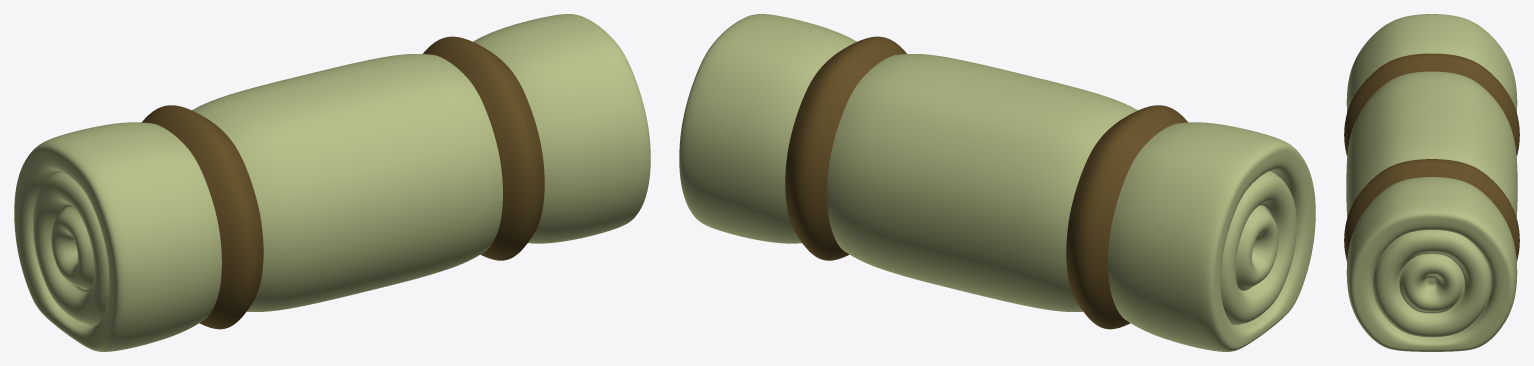
Rendered from BedRoll.fbx.
3 renders of one model, left to right at view 1: azimuth 30°, elevation 25°; view 2: azimuth 150°, elevation 25°; view 3: azimuth 270°, elevation 25°, orthographic. The views are drawn at different scales.
Parts seen in each view (by area): view 1: Cube, Cube.001; view 2: Cube, Cube.001; view 3: Cube, Cube.001.
Boxes of the visible parts, x1,y1,x2,y2 form: Cube: (14, 14, 650, 351); Cube.001: (142, 36, 544, 329); Cube: (679, 14, 1315, 351); Cube.001: (785, 36, 1187, 329); Cube: (1346, 14, 1517, 351); Cube.001: (1344, 53, 1519, 261).
Bounding box in the file's own units: 547 × 191 × 202.
